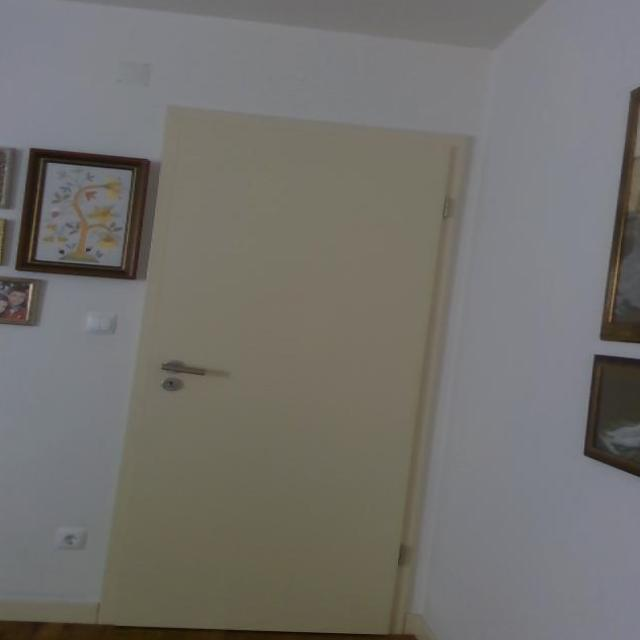door: (96, 104, 470, 635)
